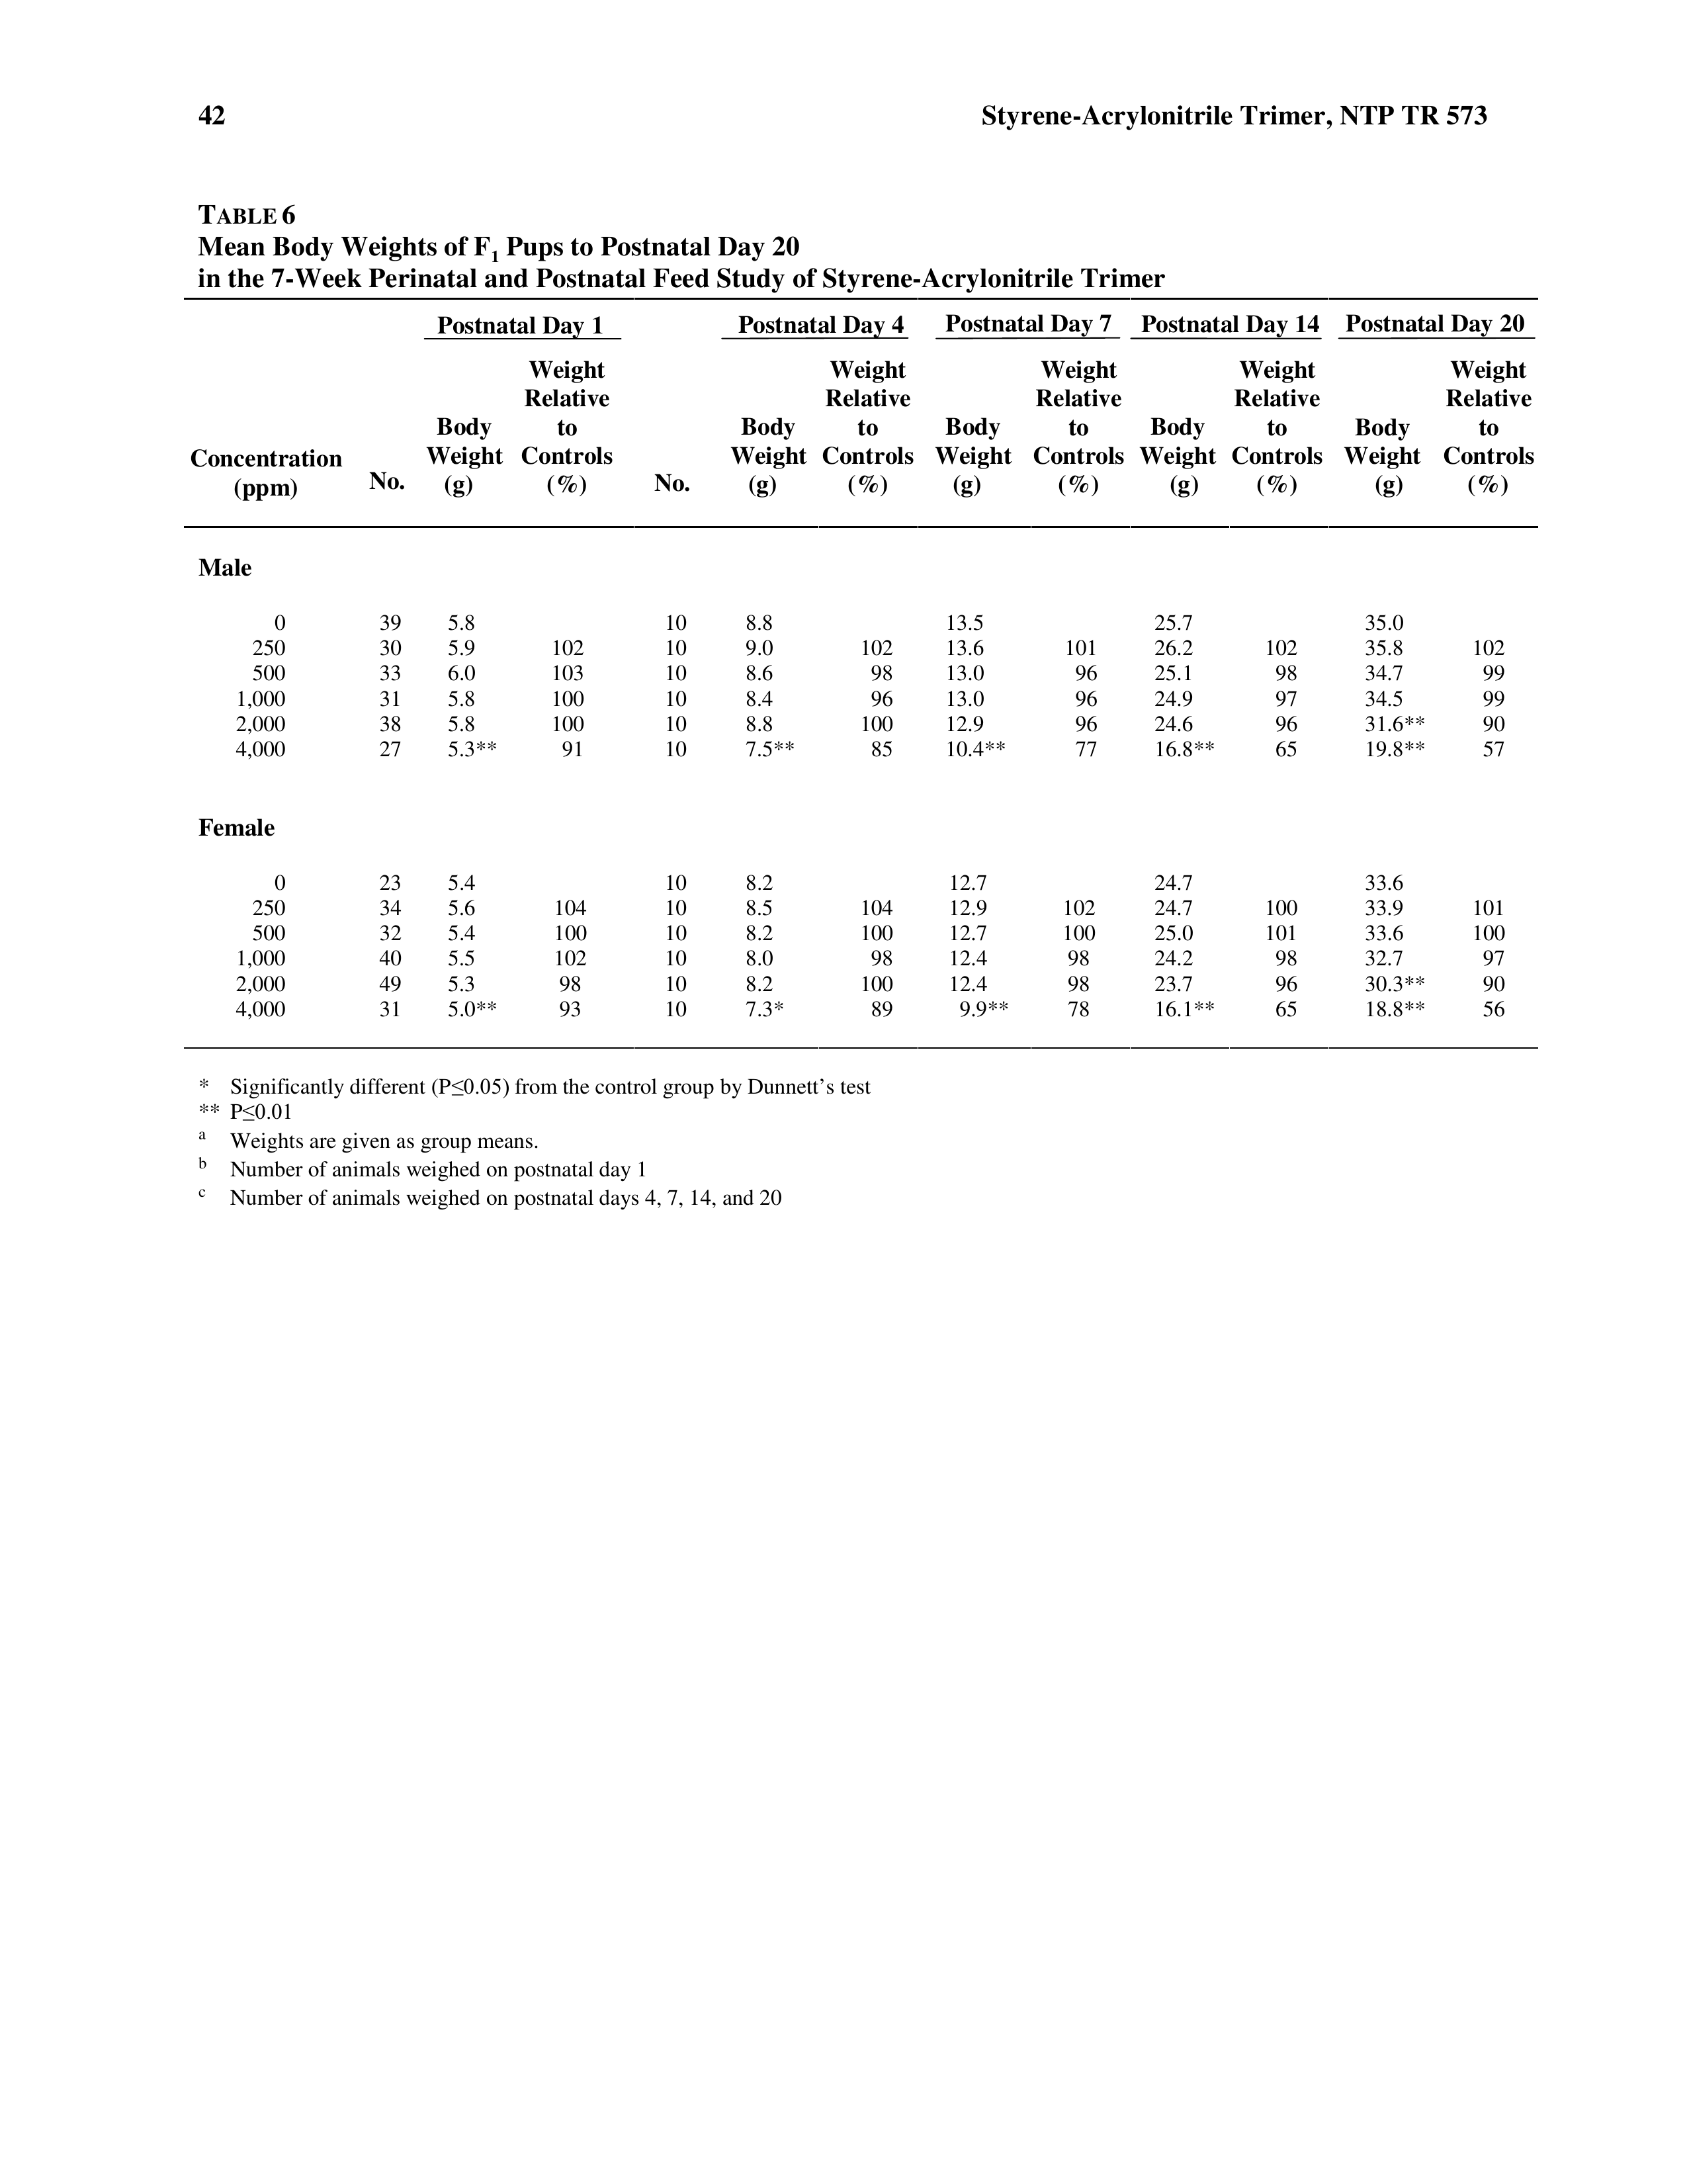table: (172, 294, 1549, 1026)
